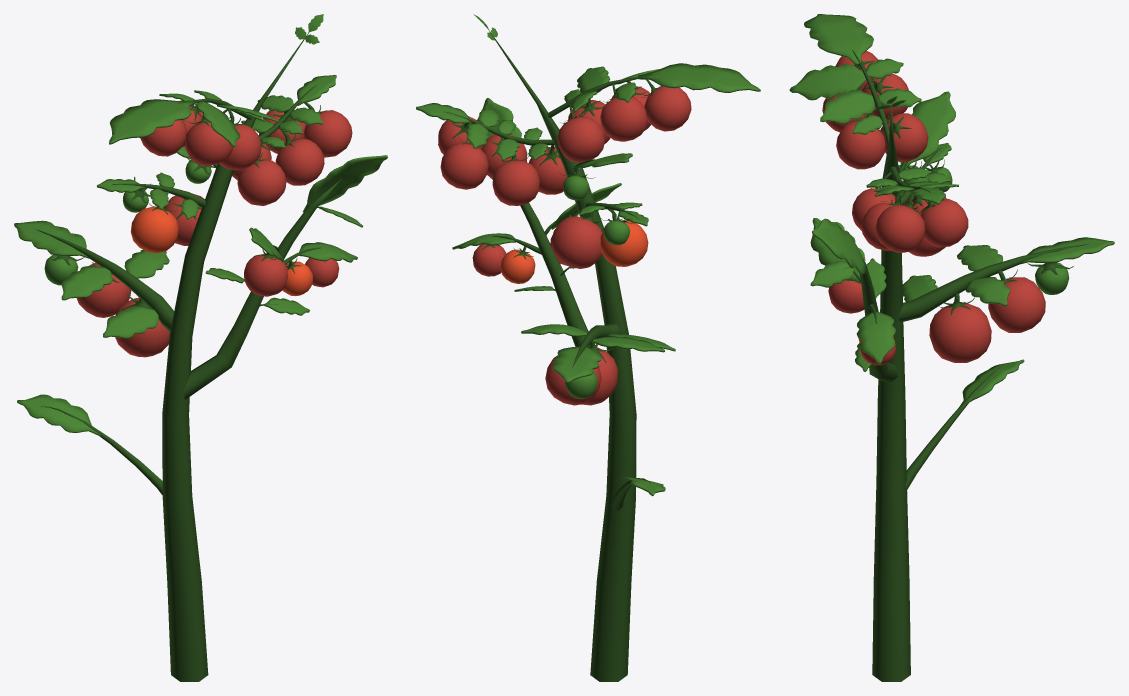
The model's file is CherryTomato_L.fbx.
The picture shows the model from 3 angles, left to right: view 1: azimuth 30°, elevation 25°; view 2: azimuth 150°, elevation 25°; view 3: azimuth 270°, elevation 25°; orthographic projection. The views are drawn at different scales.
Visible parts, largest first — view 1: Cube.020; view 2: Cube.020; view 3: Cube.020.
Part boxes in pixels (box(x1,y1,x2,y2)): Cube.020: box(14, 14, 387, 681); Cube.020: box(416, 14, 760, 681); Cube.020: box(789, 14, 1114, 681).
Bounding box in the file's own units: 162 × 341 × 156.
